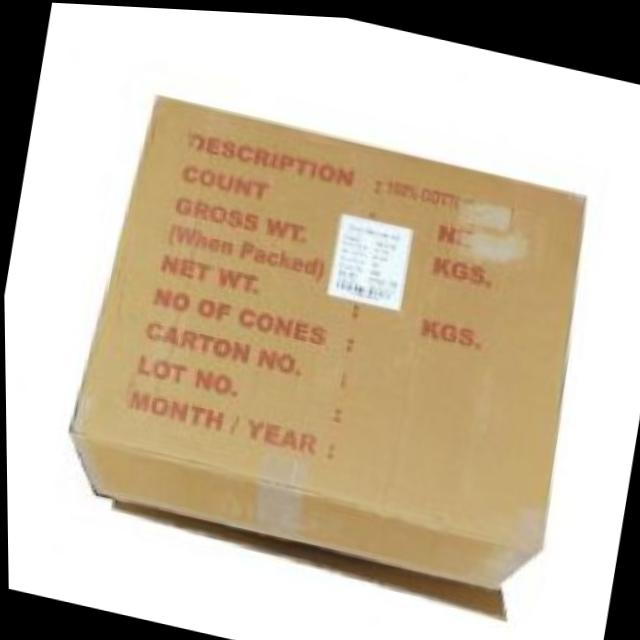box: (32, 51, 625, 634)
